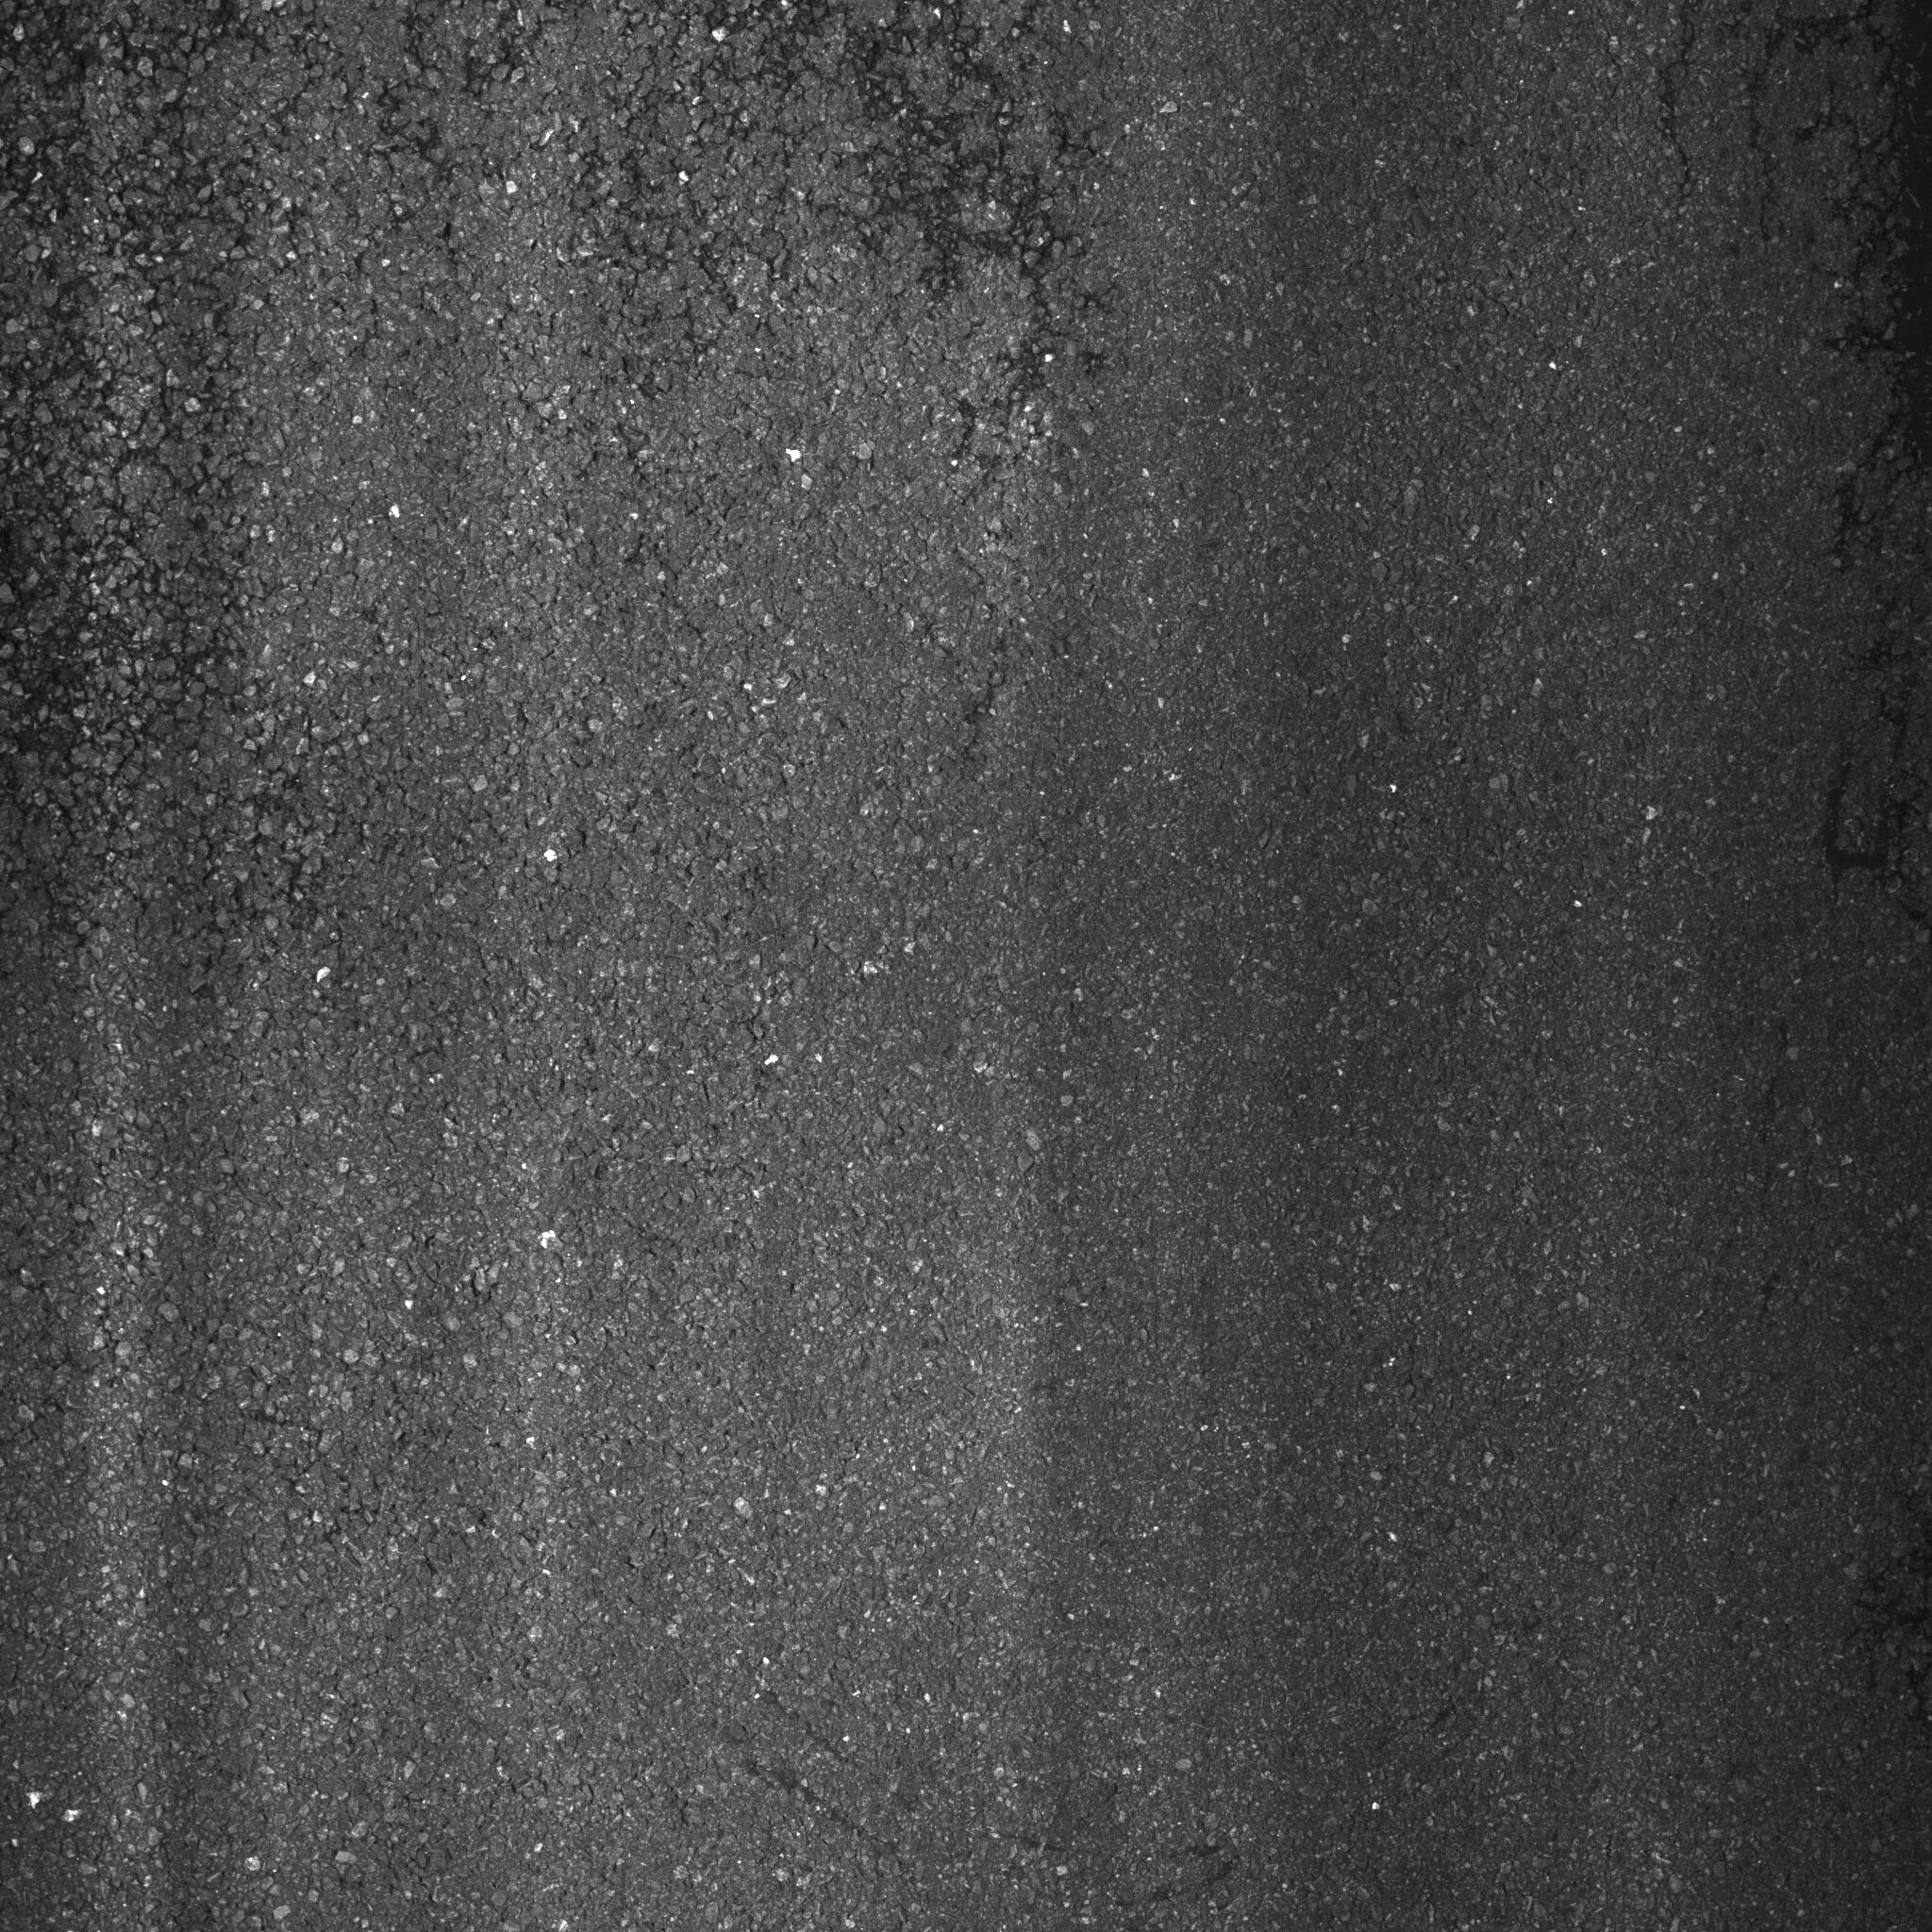alligator: (5, 4, 1180, 481)
